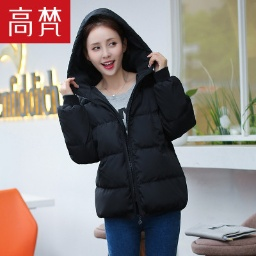face: (73, 14, 137, 91)
